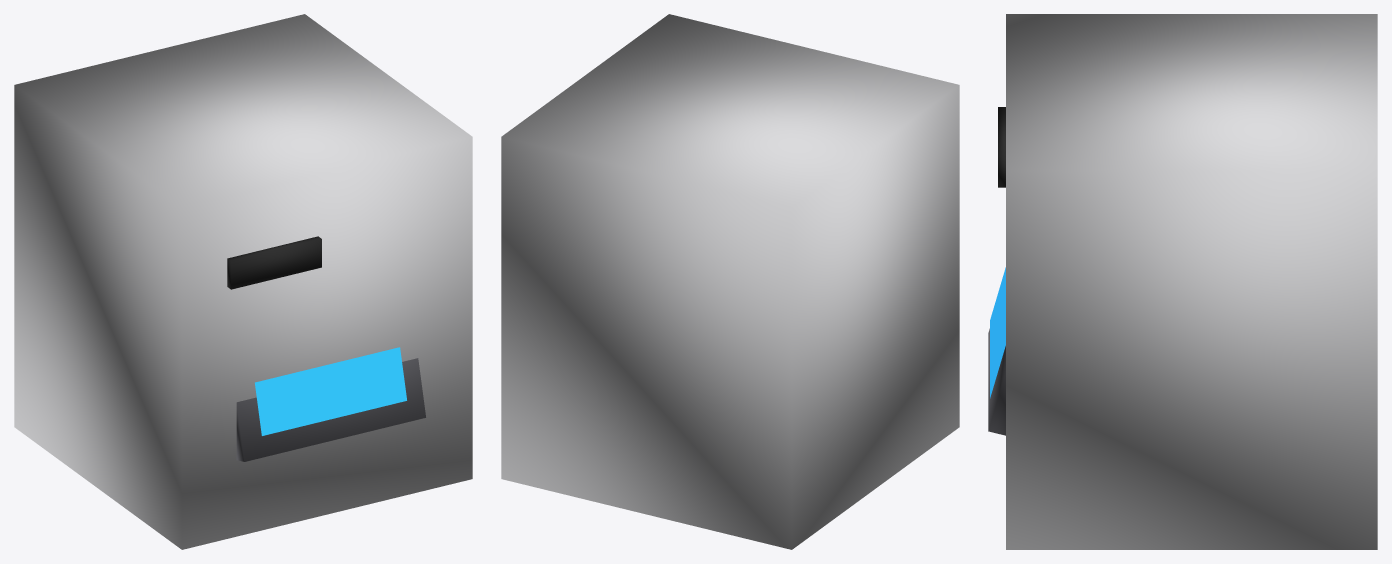
The model's file is chn_analyzer.glb.
3 renders of one model, left to right at view 1: azimuth 30°, elevation 25°; view 2: azimuth 150°, elevation 25°; view 3: azimuth 270°, elevation 25°, orthographic. The views are drawn at different scales.
Visible parts, largest first — view 1: CHN_Cabinet_Base; view 2: CHN_Cabinet_Base; view 3: CHN_Cabinet_Base.
Part boxes in pixels (x1,y1,x2,y2): CHN_Cabinet_Base: (14,14,472,549); CHN_Cabinet_Base: (501,14,959,549); CHN_Cabinet_Base: (988,14,1377,549).
Bounding box in the file's own units: 0.16 × 0.18 × 0.1676.
